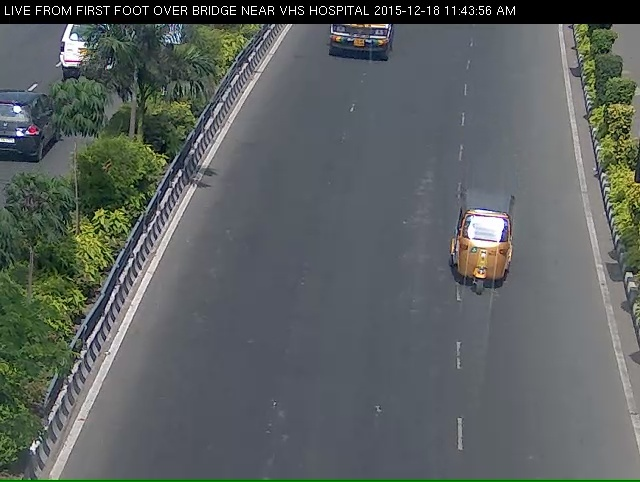Car: (444, 195, 526, 314)
